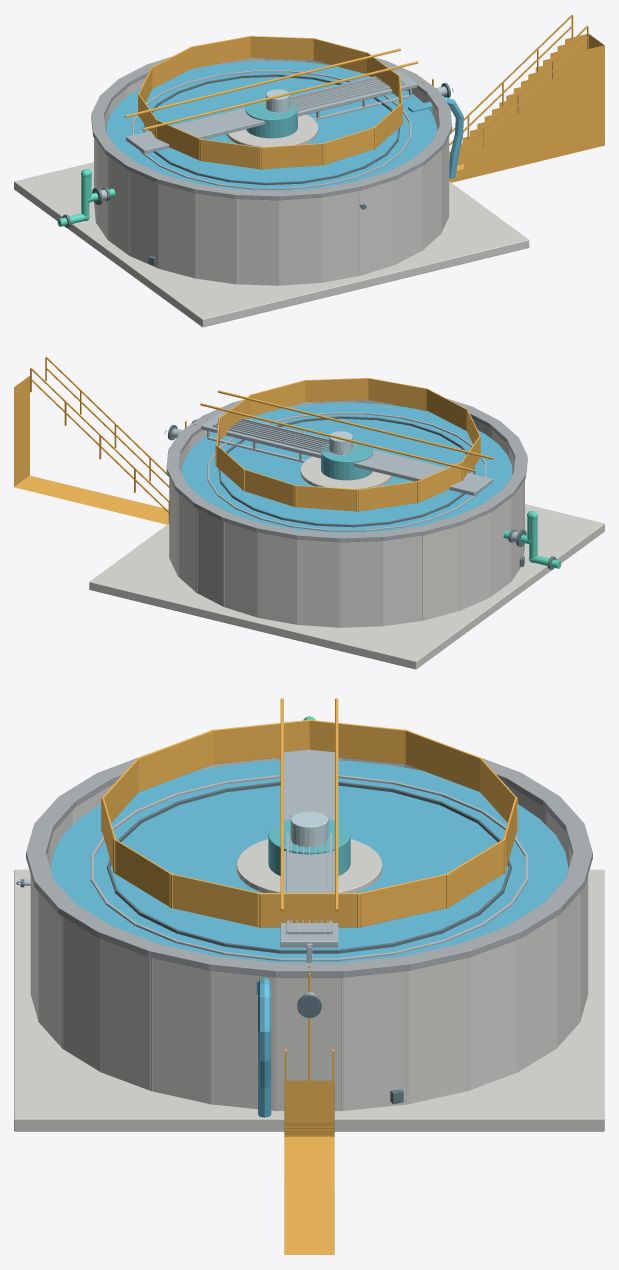
The picture shows the model from 3 angles, top to bottom: view 1: azimuth 30°, elevation 25°; view 2: azimuth 150°, elevation 25°; view 3: azimuth 270°, elevation 25°; orthographic projection. The views are drawn at different scales.
Visible parts, largest first — view 1: render-batch-8, render-batch-9, render-batch-2, render-batch-6, render-batch-5, render-batch-1, render-batch-3, render-batch-0, render-batch-7; view 2: render-batch-8, render-batch-9, render-batch-2, render-batch-6, render-batch-5, render-batch-1, render-batch-3, render-batch-0, render-batch-7; view 3: render-batch-8, render-batch-2, render-batch-9, render-batch-5, render-batch-6, render-batch-1, render-batch-3, render-batch-7.
Part boxes in pixels (x1,y1,x2,y2): render-batch-8: (14, 58, 529, 327); render-batch-9: (125, 15, 604, 182); render-batch-2: (106, 60, 463, 190); render-batch-6: (100, 70, 447, 206); render-batch-5: (91, 56, 452, 200); render-batch-1: (92, 74, 453, 265); render-batch-3: (245, 98, 297, 138); render-batch-0: (57, 169, 115, 226); render-batch-7: (266, 89, 289, 112); render-batch-8: (89, 400, 604, 669); render-batch-9: (14, 356, 493, 524); render-batch-2: (181, 402, 512, 532); render-batch-6: (171, 412, 518, 542); render-batch-5: (166, 398, 527, 542); render-batch-1: (165, 416, 526, 566); render-batch-3: (321, 440, 373, 480); render-batch-0: (503, 511, 561, 568); render-batch-7: (329, 431, 352, 454); render-batch-8: (14, 757, 604, 1131); render-batch-2: (50, 760, 568, 1117); render-batch-9: (101, 698, 517, 1254); render-batch-5: (26, 753, 592, 977); render-batch-6: (24, 749, 528, 995); render-batch-1: (16, 781, 511, 1103); render-batch-3: (268, 819, 350, 875); render-batch-7: (290, 811, 328, 847).
Size of the model in its own units: 25.96 by 6.17 by 15.8.
